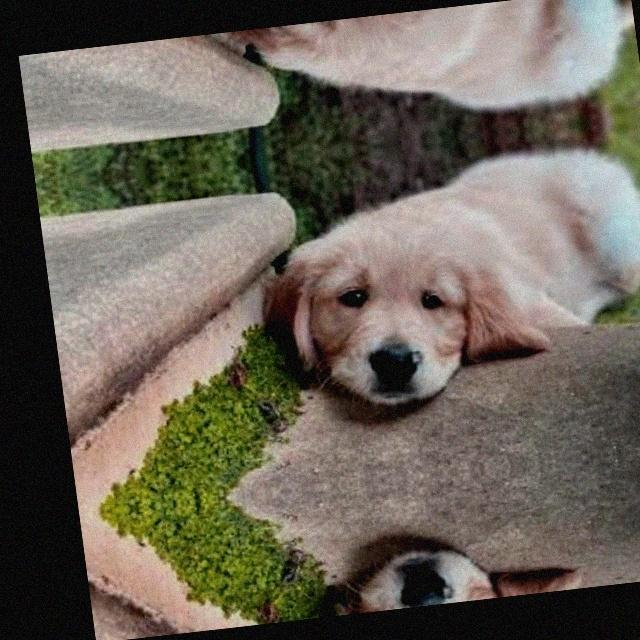dog: (230, 189, 558, 425), (204, 0, 516, 104), (274, 528, 584, 622)
